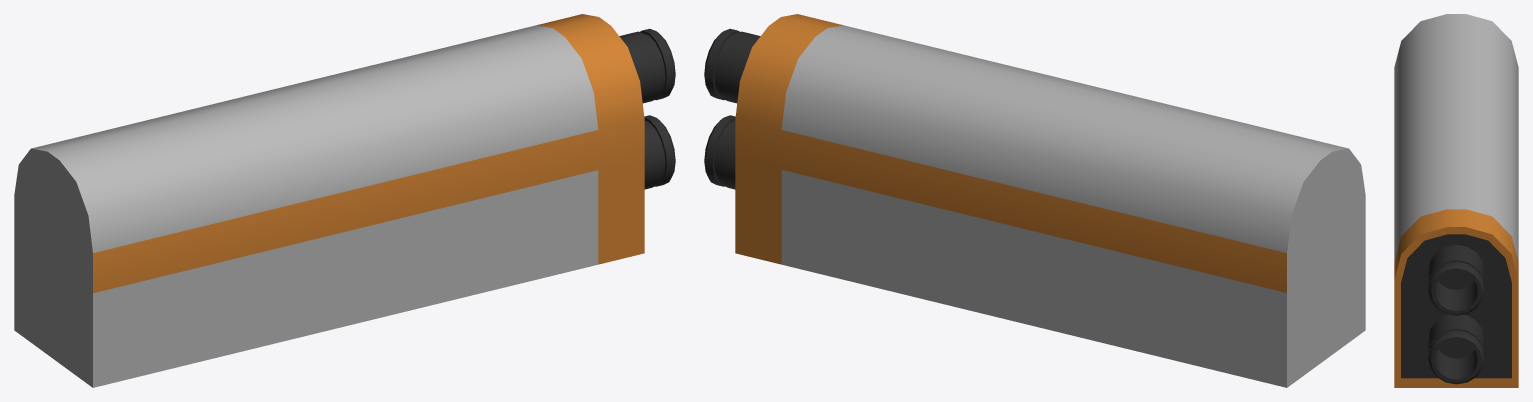
Rendered from Barrel_Pistol_2.gltf.
3 renders of one model, left to right at view 1: azimuth 30°, elevation 25°; view 2: azimuth 150°, elevation 25°; view 3: azimuth 270°, elevation 25°, orthographic. The views are drawn at different scales.
Parts seen in each view (by area): view 1: Barrel_Pistol_2; view 2: Barrel_Pistol_2; view 3: Barrel_Pistol_2.
Part boxes in pixels (x1,y1,x2,y2): Barrel_Pistol_2: (14, 14, 675, 387); Barrel_Pistol_2: (704, 14, 1365, 387); Barrel_Pistol_2: (1394, 14, 1518, 387).
Size of the model in its own units: 0.4197 by 0.1344 by 0.0944.
